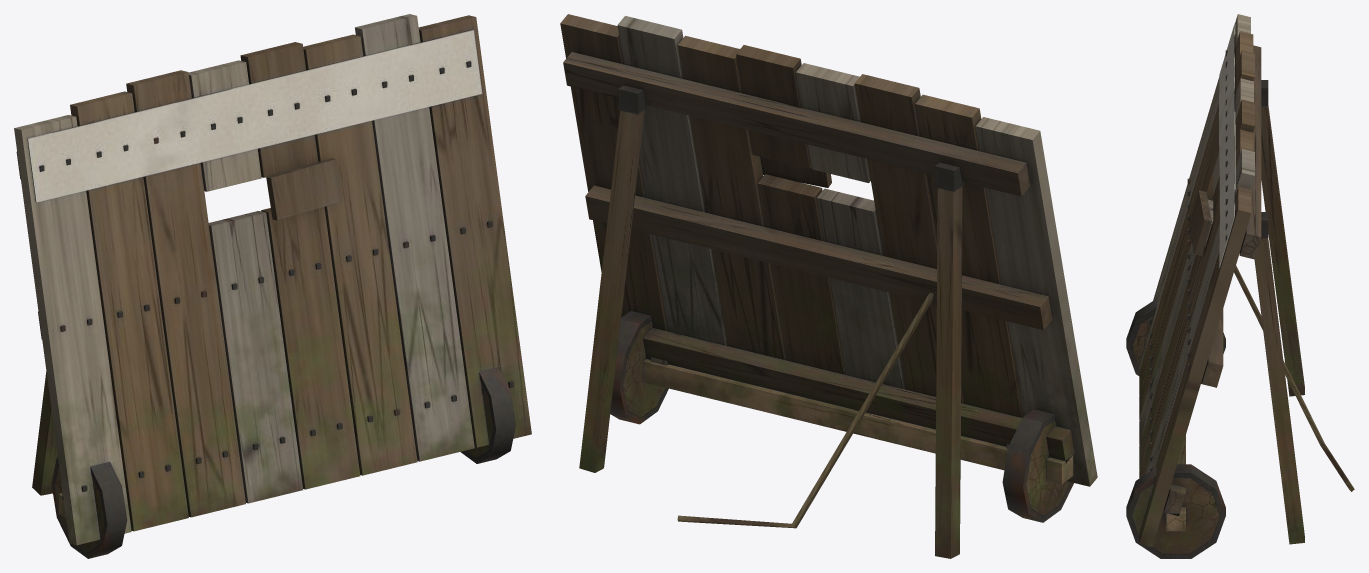
Rendered from mantlet.glb.
3 views of the same model, side by side, from view 1: azimuth 30°, elevation 25°; view 2: azimuth 150°, elevation 25°; view 3: azimuth 270°, elevation 25° (orthographic). The views are drawn at different scales.
Parts seen in each view (by area): view 1: body_LOD0, wheel_r, wheel_l; view 2: body_LOD0, wheel_r, wheel_l; view 3: body_LOD0, wheel_l, wheel_r.
Boxes of the visible parts, x1,y1,x2,y2 form: body_LOD0: (14,14,531,545); wheel_r: (51,457,127,558); wheel_l: (460,367,515,463); body_LOD0: (560,14,1097,558); wheel_r: (1002,409,1073,522); wheel_l: (610,310,668,424); body_LOD0: (1139,14,1354,547); wheel_l: (1126,464,1225,558); wheel_r: (1126,299,1225,383).
Size of what is drawn, in the model's own units: 2.39 by 2.1 by 1.17.
Materials: 2 (2 with a texture image).
